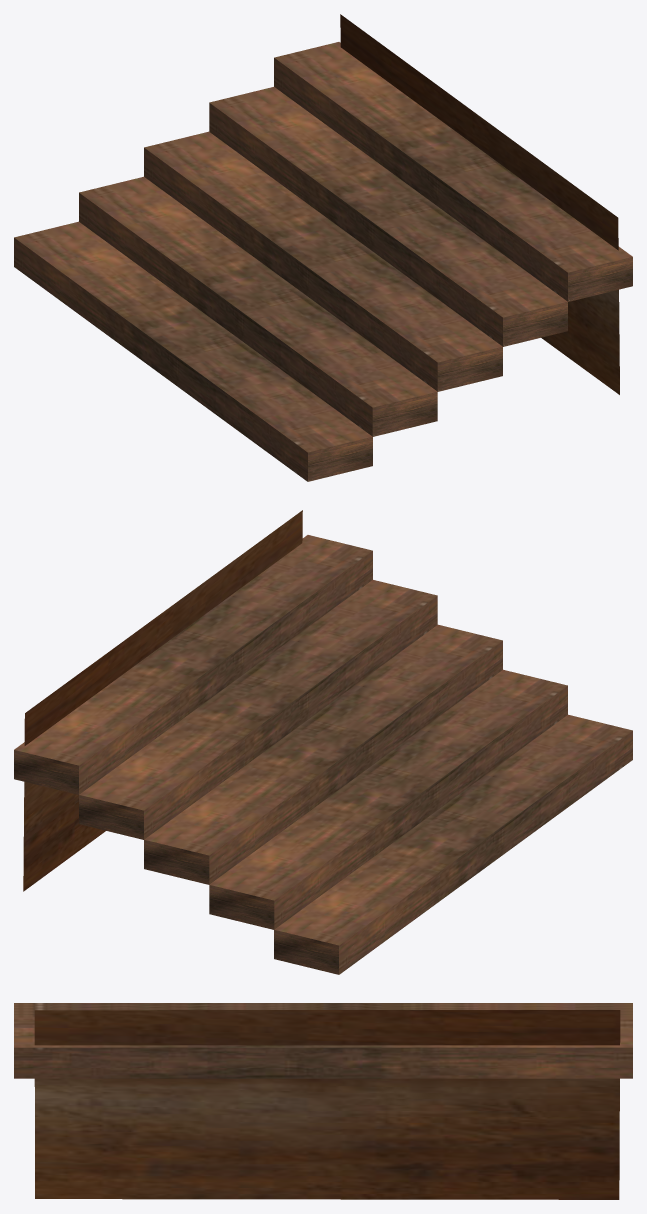
3 views of the same model, one above another, from view 1: azimuth 30°, elevation 25°; view 2: azimuth 150°, elevation 25°; view 3: azimuth 270°, elevation 25° (orthographic). The views are drawn at different scales.
Visible parts, largest first — view 1: lt03; view 2: lt03; view 3: lt03.
Boxes of the visible parts, x1,y1,x2,y2 form: lt03: (14,14,632,481); lt03: (14,510,632,974); lt03: (14,1003,632,1199).
Size of the model in its own units: 57.87 by 30.5 by 90.57.
